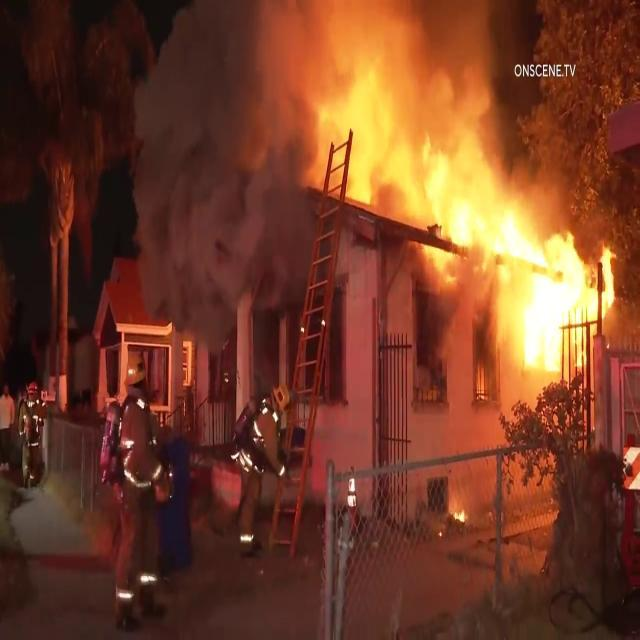Fire: (494, 203, 592, 374)
Smoke: (150, 51, 266, 324)
